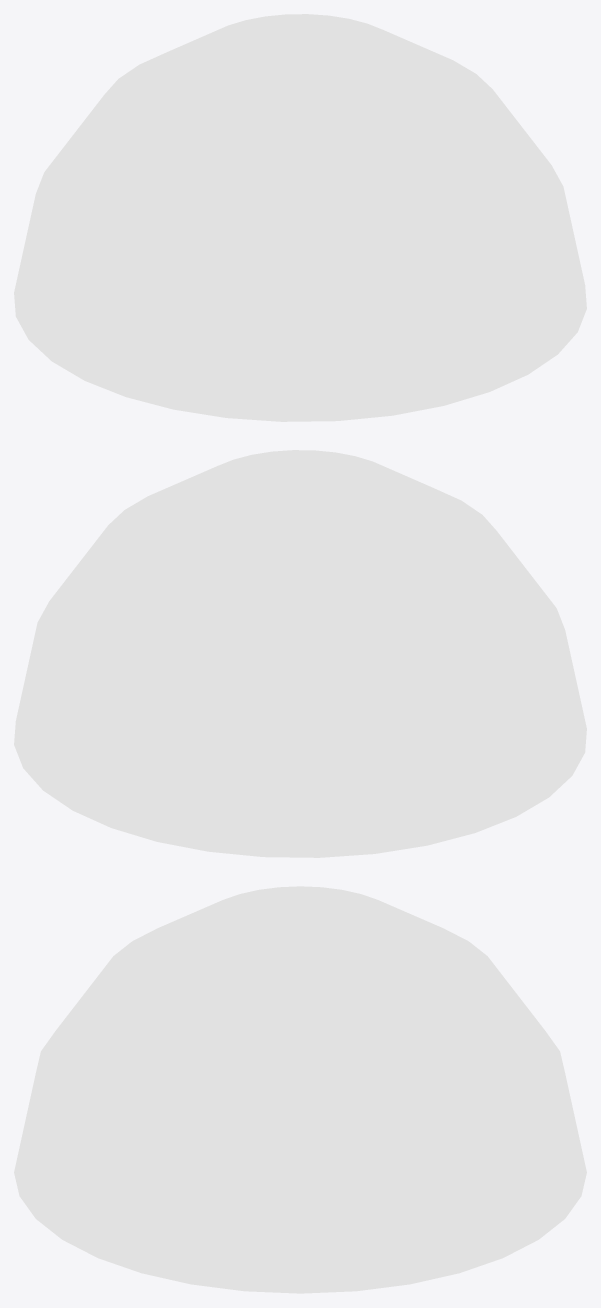
File: Sky.obj
3 views of the same model, one above another, from view 1: azimuth 30°, elevation 25°; view 2: azimuth 150°, elevation 25°; view 3: azimuth 270°, elevation 25° (orthographic).
Size of the model in its own units: 2 by 1 by 2.
1 material, 1 textured.
